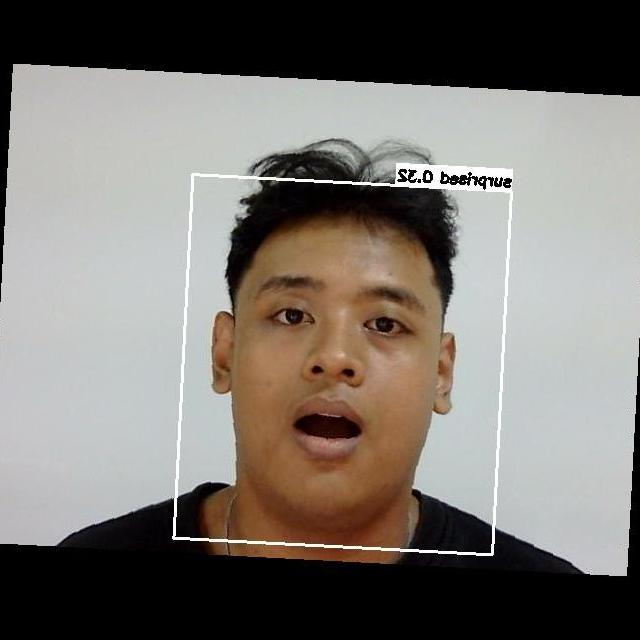Surprised: (239, 249, 450, 497)
